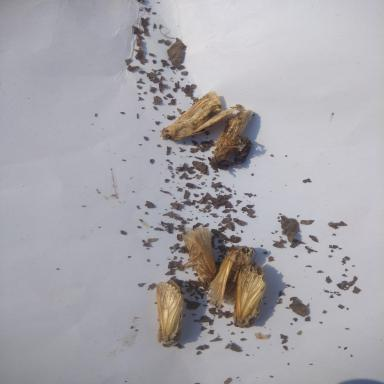abw: (158, 85, 232, 145), (206, 243, 260, 311), (176, 224, 220, 291), (233, 266, 271, 330), (151, 278, 185, 345)
